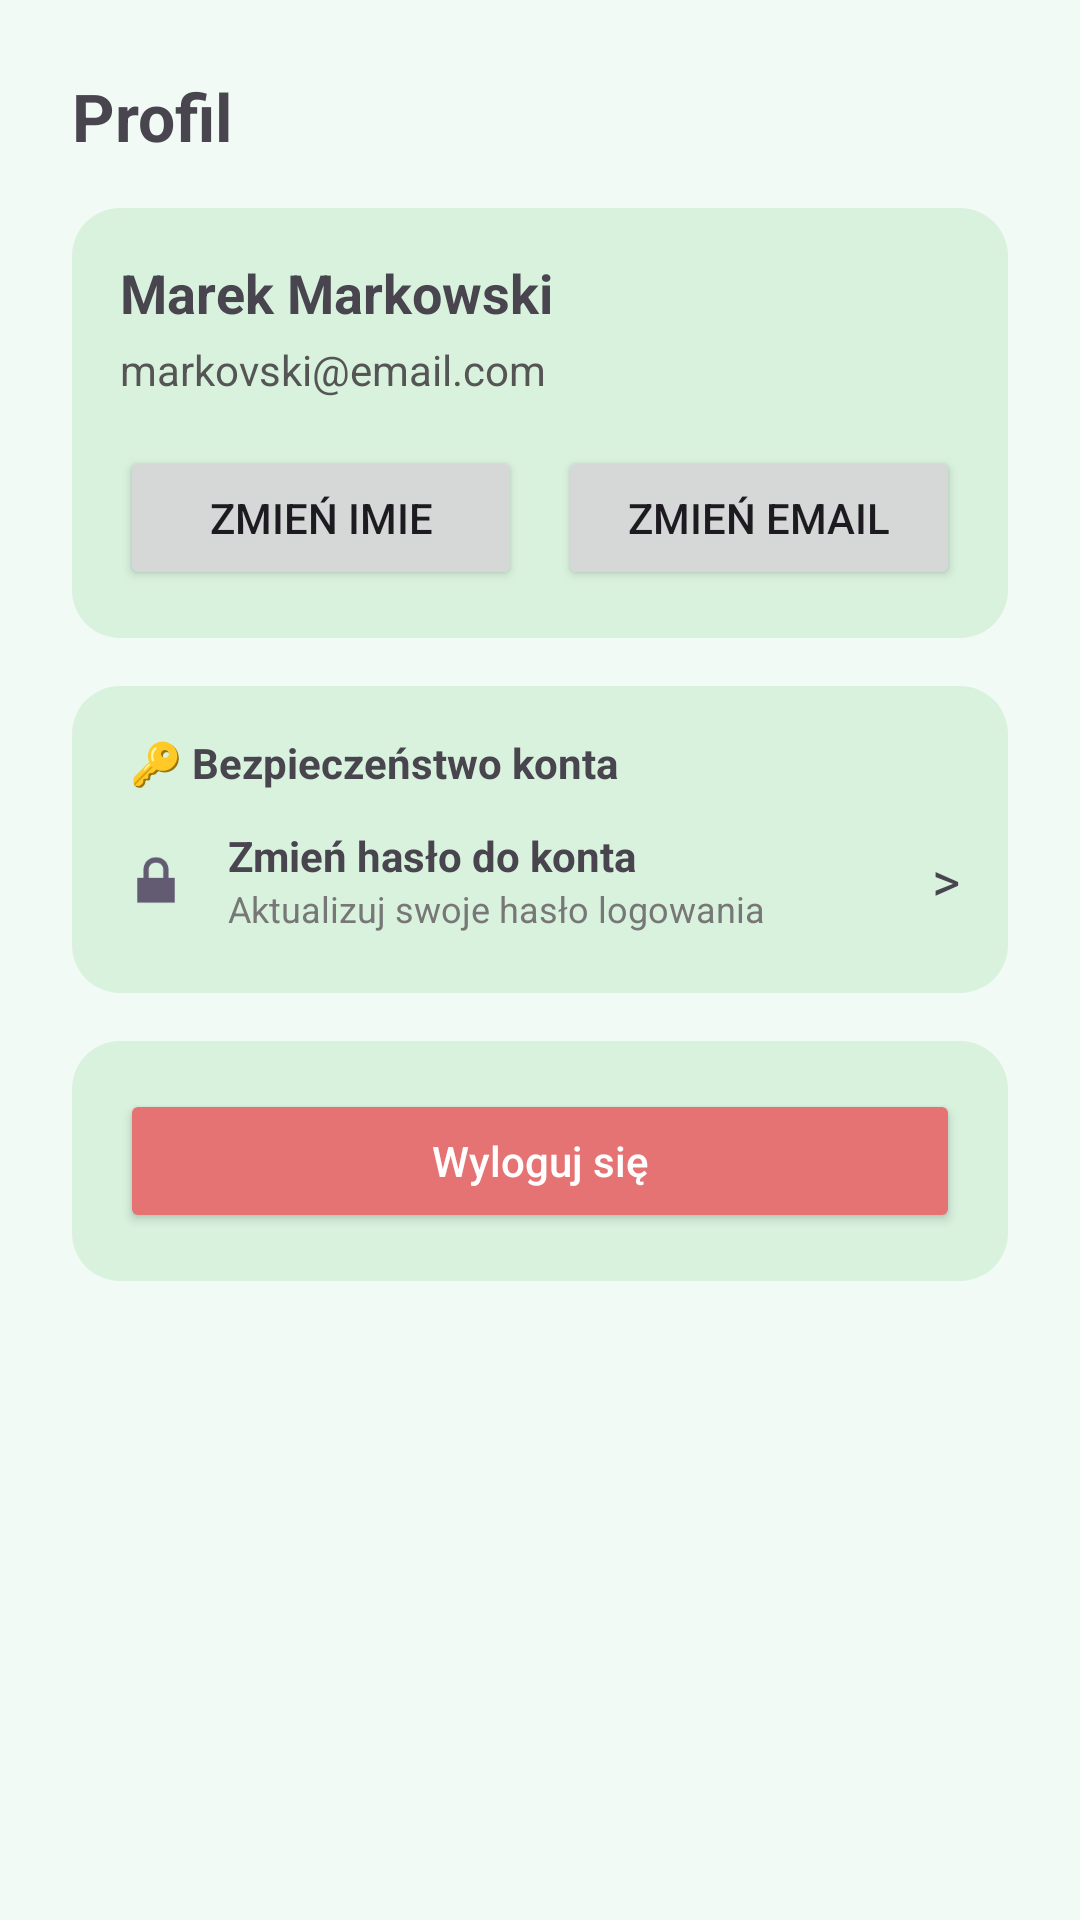

Screen size 1080x1920. Icon name, then its center in pixels as (x=x, y=y):
lock: (x=156, y=880)
